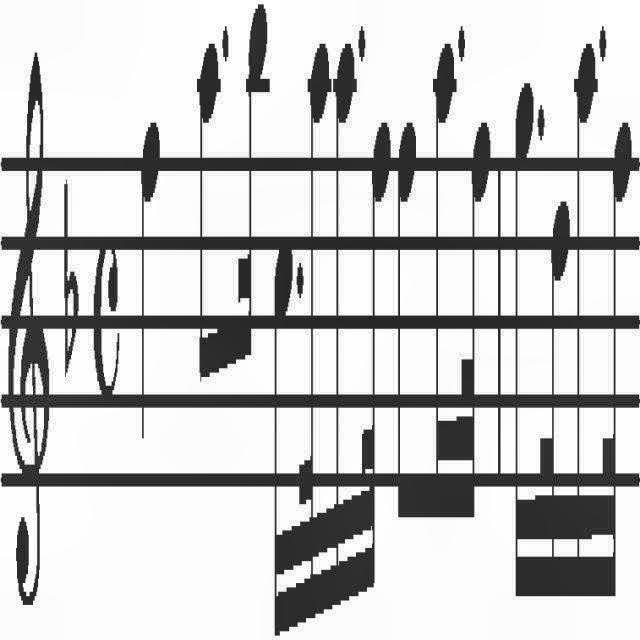Bass-clef: (6, 44, 52, 614)
Bemol: (64, 175, 80, 373)
Eighth-note: (396, 117, 419, 528), (196, 38, 220, 386)
Quarter-note: (140, 113, 160, 444)
Sixteenth-note: (571, 32, 599, 612), (332, 36, 358, 618), (431, 36, 457, 544), (511, 80, 535, 616), (237, 0, 269, 380), (272, 236, 292, 640)
